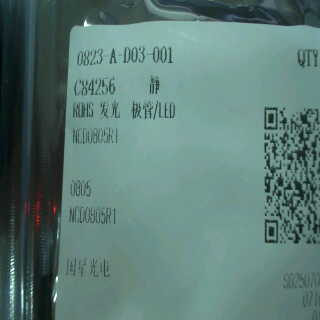LED: (93, 97, 185, 123)
